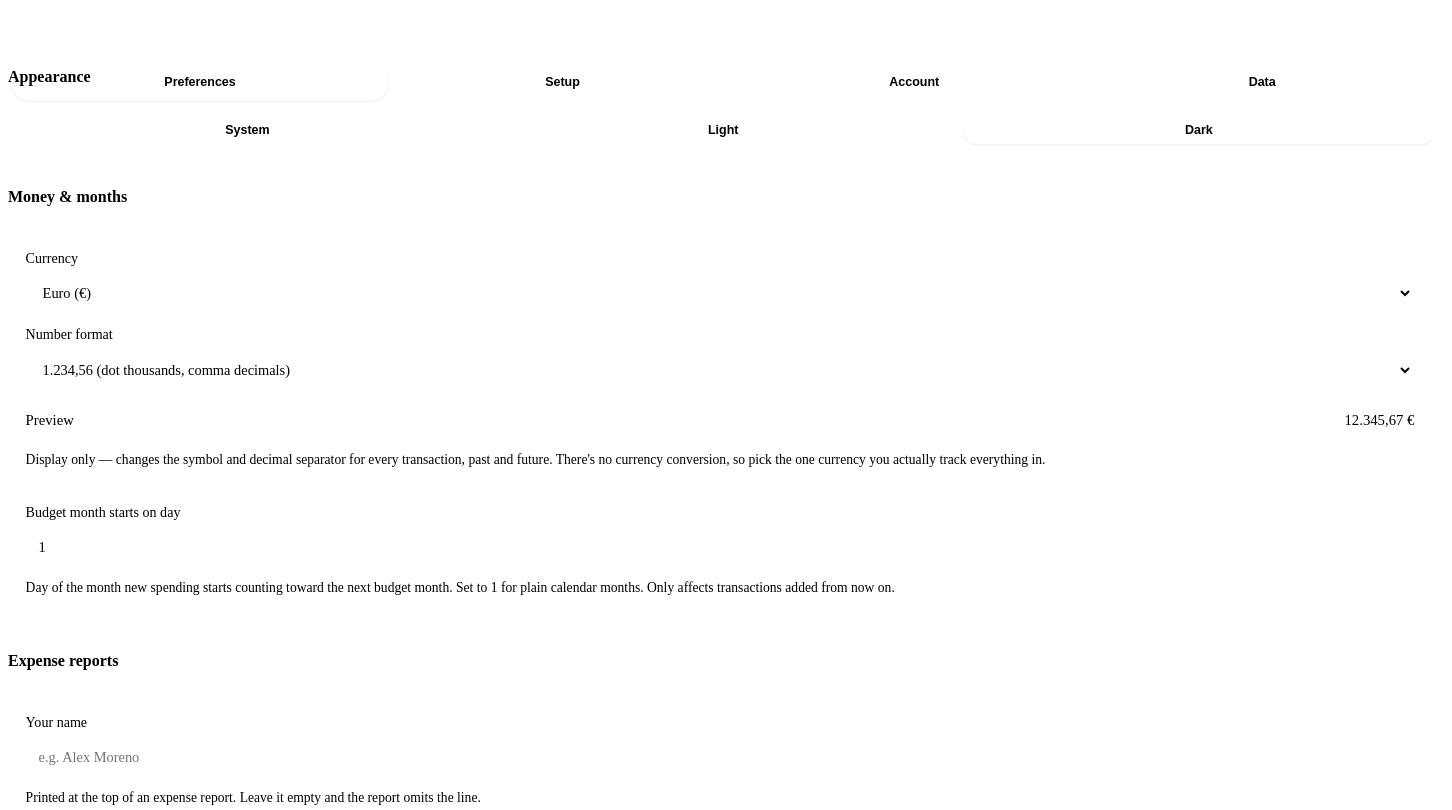
Test: SettingsTab sections › swaps the panel for the section that is tapped
What coordinates should you click on to do the following:
click the tab "Data"
I would click on:
 (1262, 82)
Its box is [1096, 63, 1429, 101].
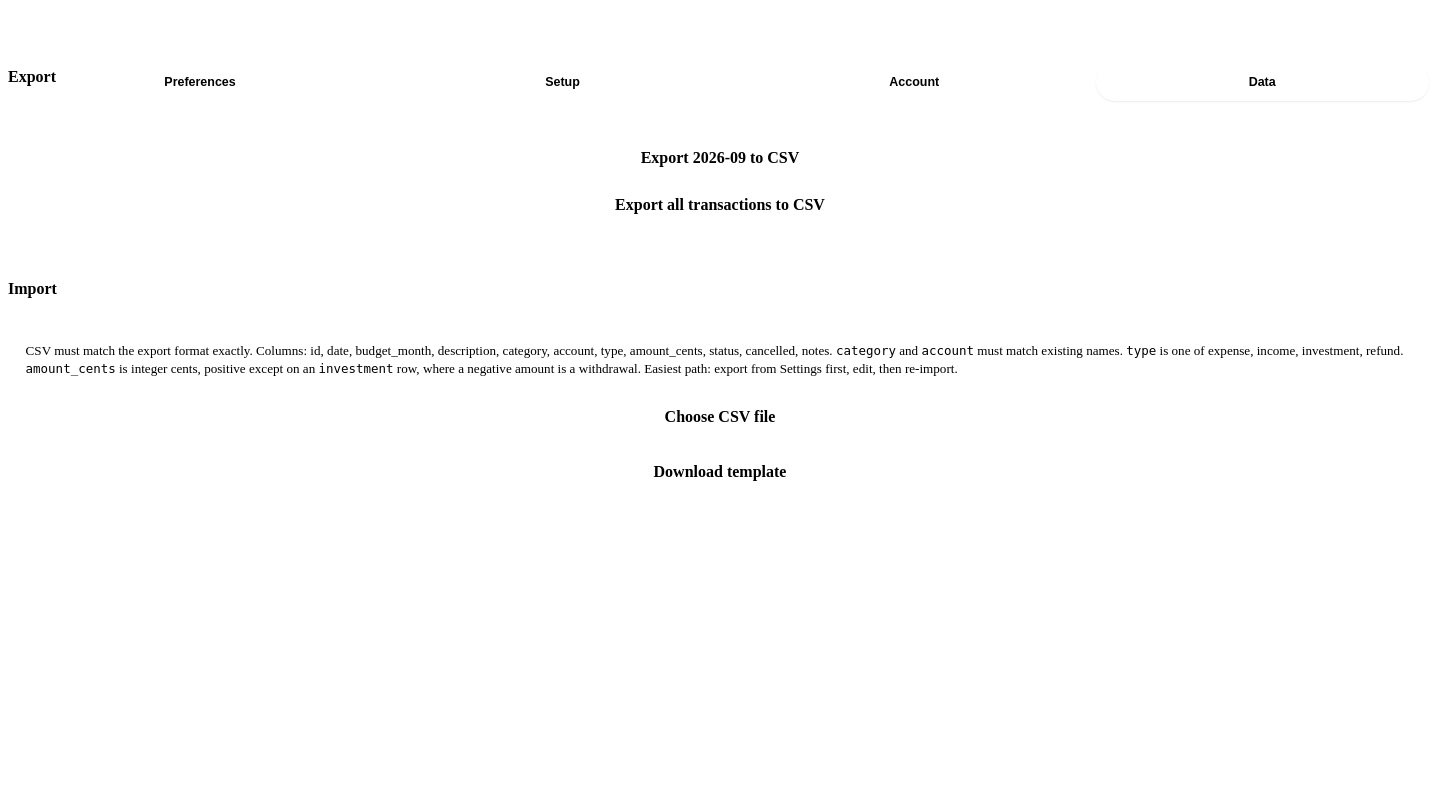
Check: the panel shows "Export", box [8, 68, 56, 85]
